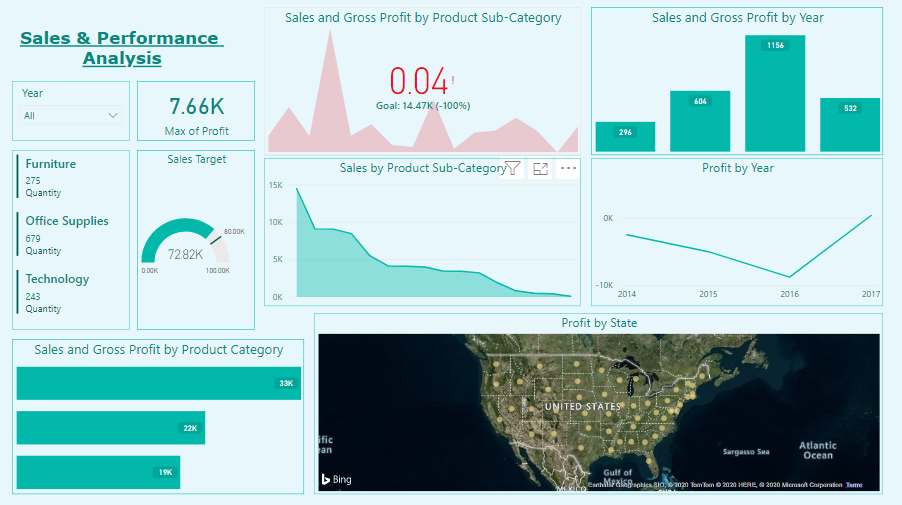

The dashboard page shown, as its layout file describes it:
{"tool":"powerbi","page":{"name":"Page 1","canvas":[1280,720],"ordinal":0},"visuals":[{"type":"barChart","title":"Sales and Gross Profit by Product Category","fields":{"Y":["Sum(sales_details.sales)"],"Category":["product_details.Category"]},"box":[18.4,481.9,413.9,219.7],"z":0},{"type":"kpi","title":"Sales and Gross Profit by Product Sub-Category","fields":{"TrendLine":["product_details.Sub-Category"],"Goal":["Sum(sales_details.sales)"],"Indicator":["Sum(sales_details.Discount)"]},"box":[375.6,11.3,449.3,209.8],"z":1000},{"type":"columnChart","title":"Sales and Gross Profit by Year","fields":{"Category":["order_details.Order Date.Variation.Date Hierarchy.Year"],"Y":["Sum(sales_details.sales)"]},"box":[839.1,11.3,413.9,209.8],"z":2000},{"type":"lineChart","fields":{"Category":["order_details.Order Date.Variation.Date Hierarchy.Year"],"Y":["Sum(sales_details.Profit)"]},"box":[839.1,225.4,413.9,209.8],"z":3000},{"type":"areaChart","title":"Sales by Product Sub-Category","fields":{"Y":["Sum(sales_details.sales)"],"Category":["product_details.Sub-Category"]},"box":[375.6,225.4,449.3,209.8],"z":4000},{"type":"slicer","fields":{"Values":["order_details.Order Date.Variation.Date Hierarchy.Year"]},"box":[18.4,116.2,167.2,85],"z":5000},{"type":"multiRowCard","fields":{"Values":["product_details.Category","Sum(sales_details.Quantity)"]},"box":[18.4,214,167.2,255.1],"z":6000},{"type":"map","fields":{"Category":["place_details.State"],"Size":["Sum(sales_details.Profit)"]},"box":[446.5,445,806.5,256.5],"z":7000},{"type":"textbox","box":[18.4,15.6,311.8,89.3],"z":8000},{"type":"card","fields":{"Values":["Max(sales_details.Profit)"]},"box":[195.6,116.2,167.2,85],"z":9000},{"type":"gauge","title":"Sales Target","fields":{"Y":["Sum(sales_details.sales)"]},"box":[196,214,167,255],"z":10000}]}

Visuals, with their boxes in screenshot pixels (x1, y1, x2, y2), scaled from the page's 1280x720 canvas onto the 902x505 screenshot:
"Sales and Gross Profit by Product Category" barChart: BBox(13, 338, 305, 492)
"Sales and Gross Profit by Product Sub-Category" kpi: BBox(265, 8, 581, 155)
"Sales and Gross Profit by Year" columnChart: BBox(591, 8, 883, 155)
lineChart - order_details.Order Date.Variation.Date Hierarchy.Year x Sum(sales_details.Profit): BBox(591, 158, 883, 305)
"Sales by Product Sub-Category" areaChart: BBox(265, 158, 581, 305)
slicer - order_details.Order Date.Variation.Date Hierarchy.Year: BBox(13, 82, 131, 141)
multiRowCard - product_details.Category x Sum(sales_details.Quantity): BBox(13, 150, 131, 329)
map - place_details.State x Sum(sales_details.Profit): BBox(315, 312, 883, 492)
textbox: BBox(13, 11, 233, 74)
card - Max(sales_details.Profit): BBox(138, 82, 256, 141)
"Sales Target" gauge: BBox(138, 150, 256, 329)
